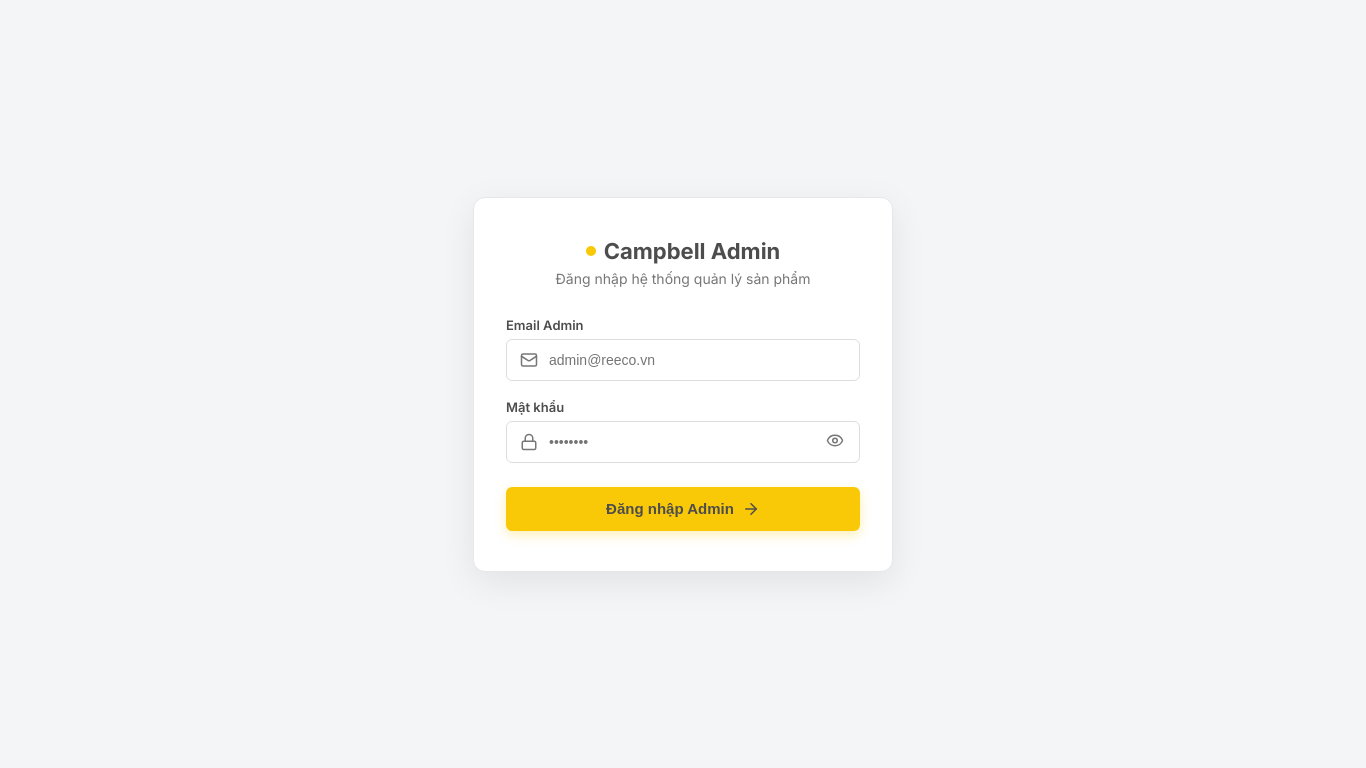
Test: routing and auth › a customer account is refused and no session is stored
Type "haitran@example.com" into the field with placeholder "admin@reeco.vn".
click(683, 360); type("haitran@example.com")  # box x1=506 y1=338 x2=860 y2=380
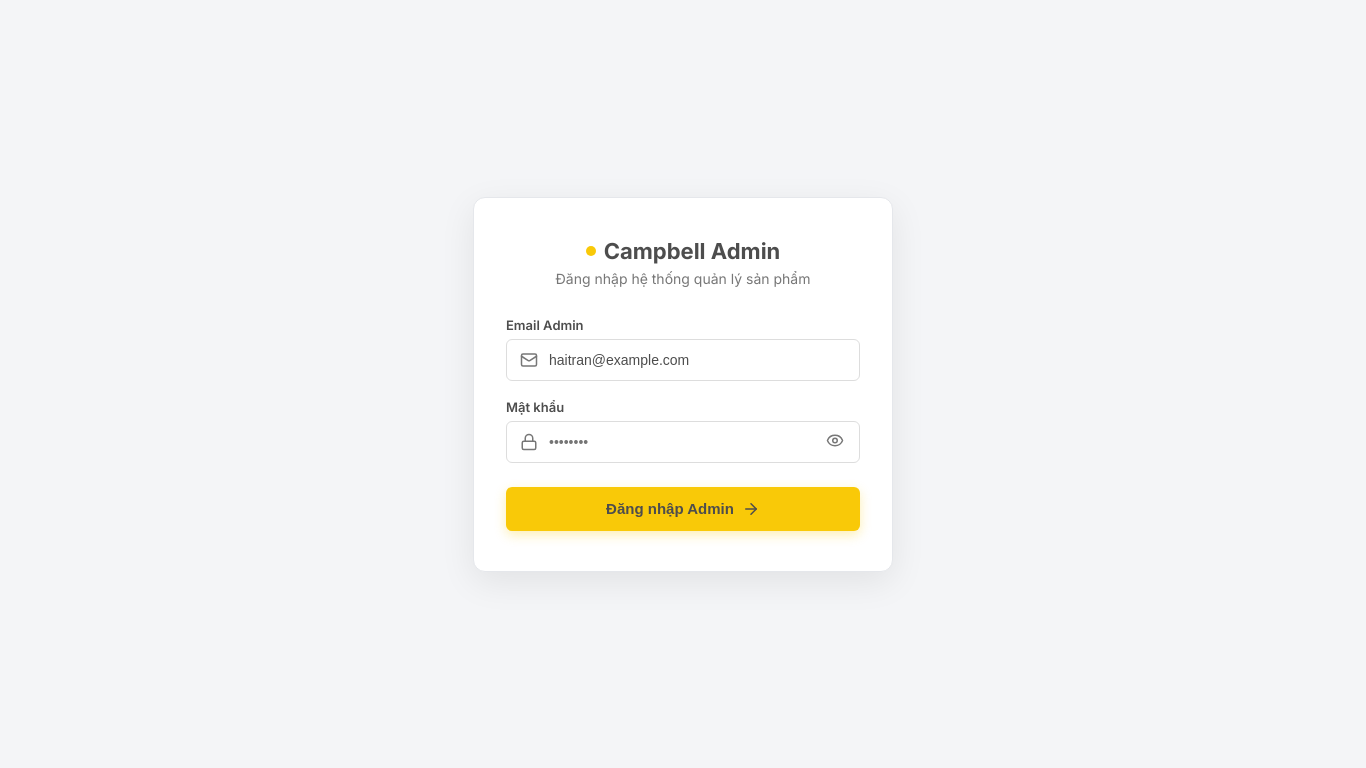
Type "ilovereeco" into the password field with placeholder "••••••••".
click(683, 442); type("ilovereeco")  # box x1=506 y1=420 x2=860 y2=462
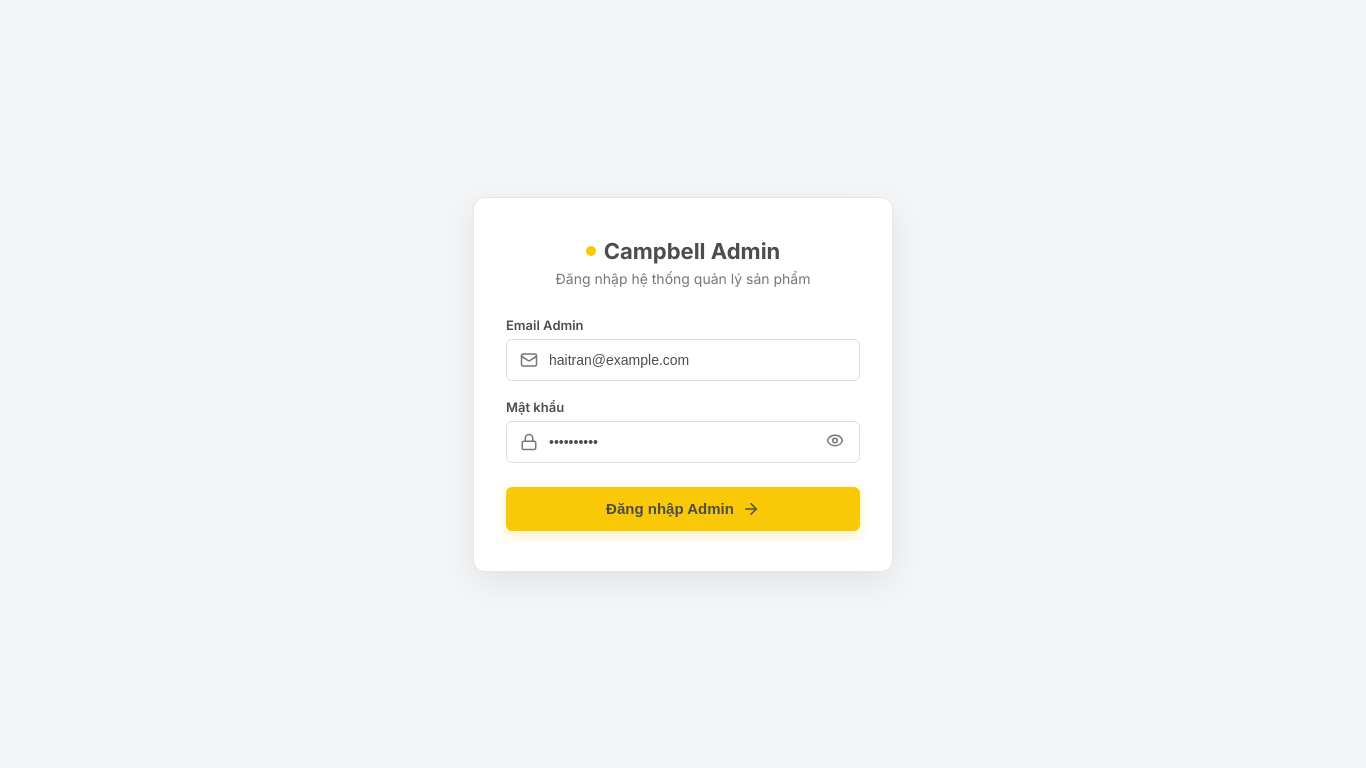
Submit the form, box x1=506 y1=316 x2=860 y2=530
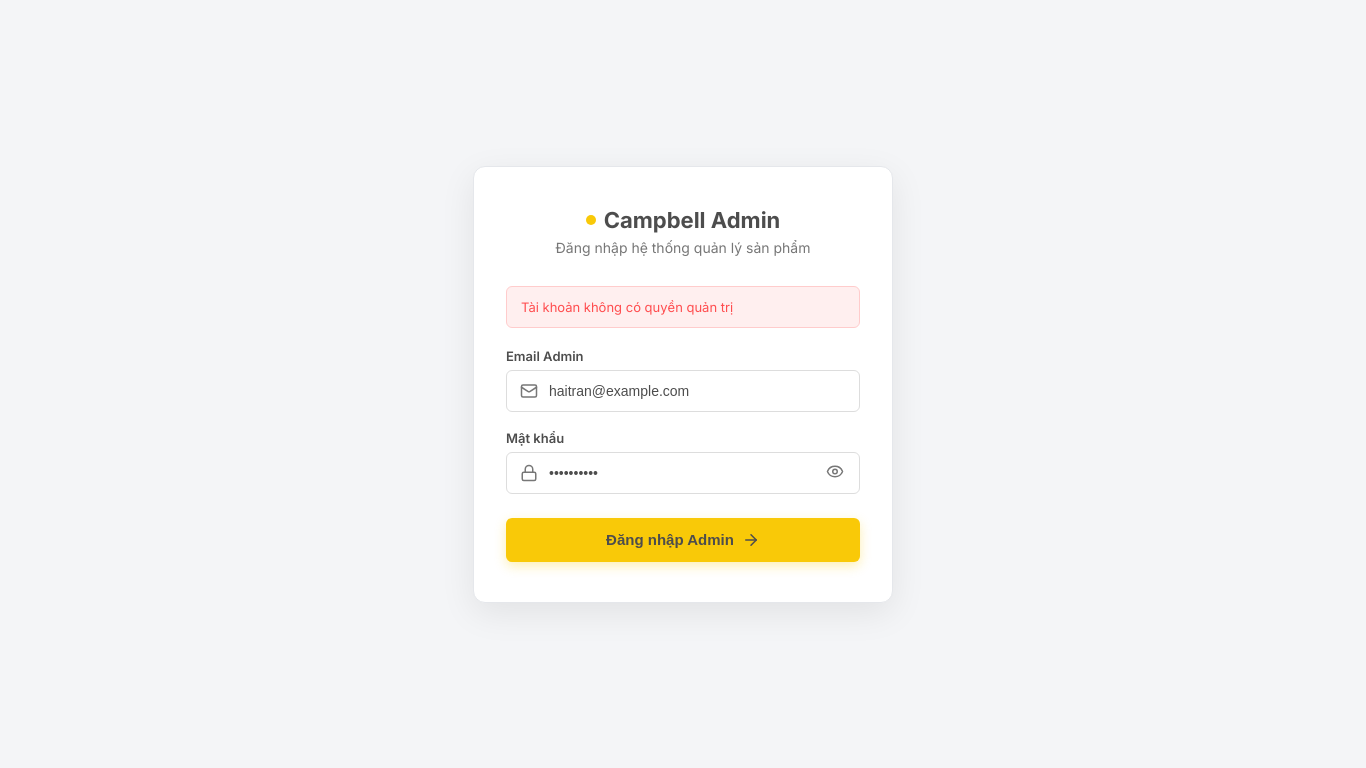
Now the text "Tài khoản không có quyền quản trị" is shown, box x1=506 y1=286 x2=860 y2=328
